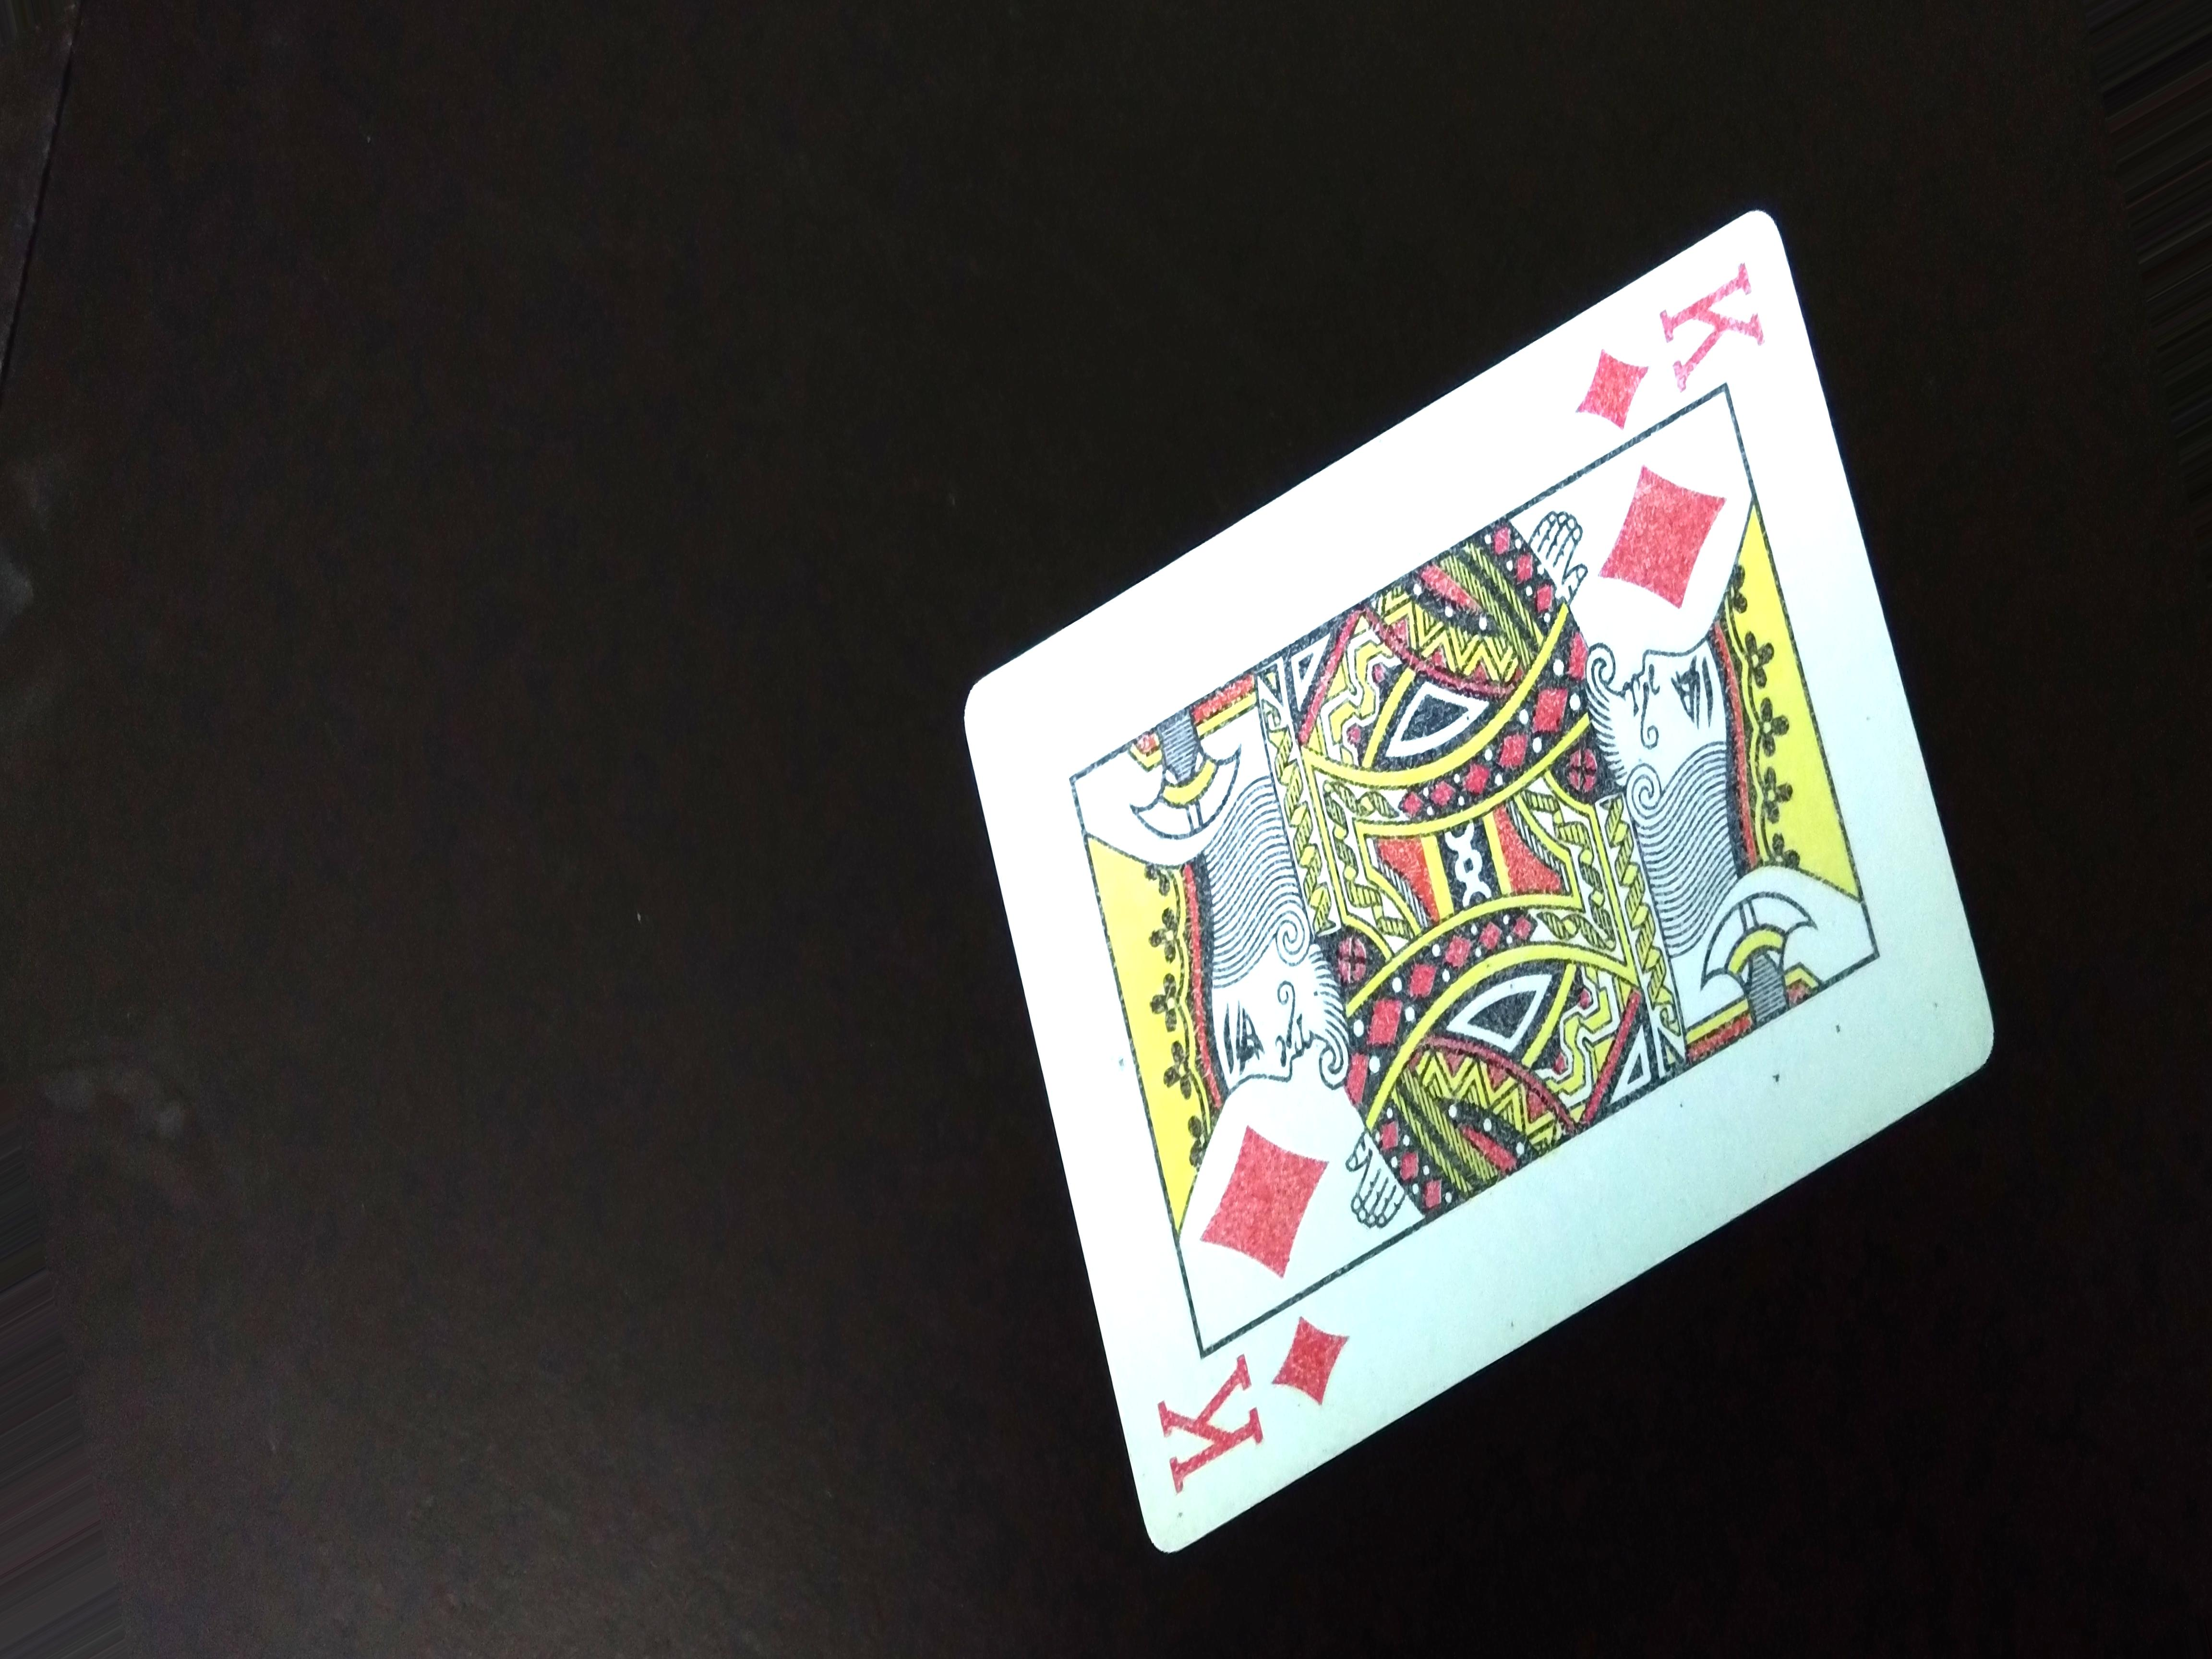KD: (1578, 260, 1768, 446)
